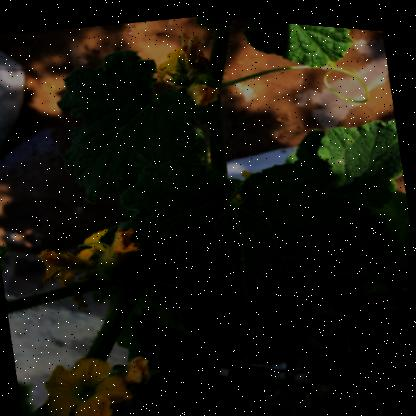Normal: (104, 110, 413, 389), (57, 30, 215, 209), (184, 12, 359, 91)
